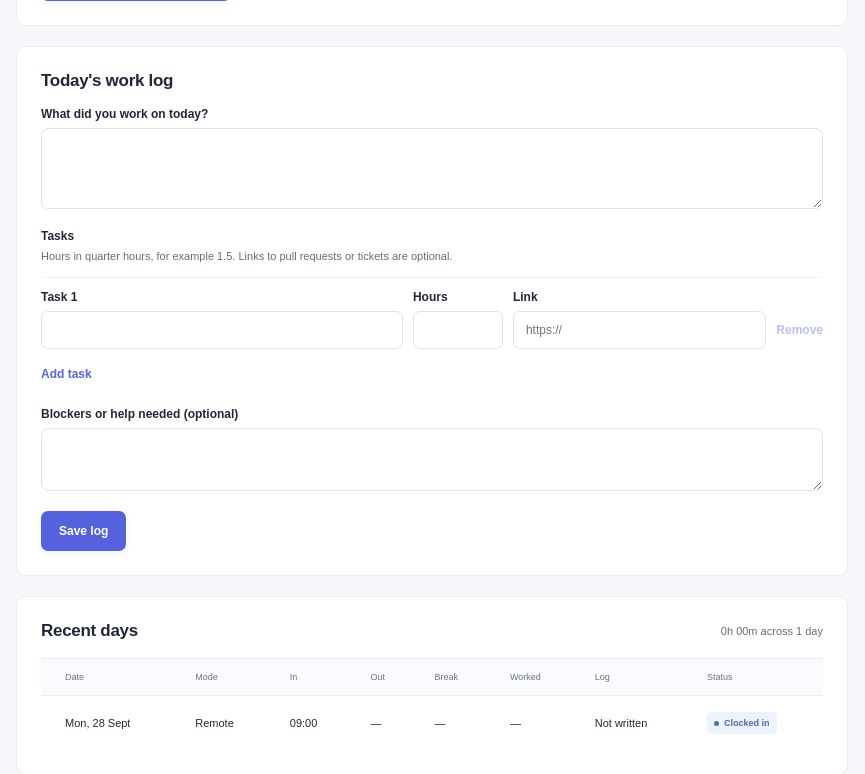
Test: StaffAttendance › adds and removes task rows
The width and height of the screenshot is (865, 774).
(page scrolled)
Click the button "Add task" at (66, 374), box [41,361,92,387]
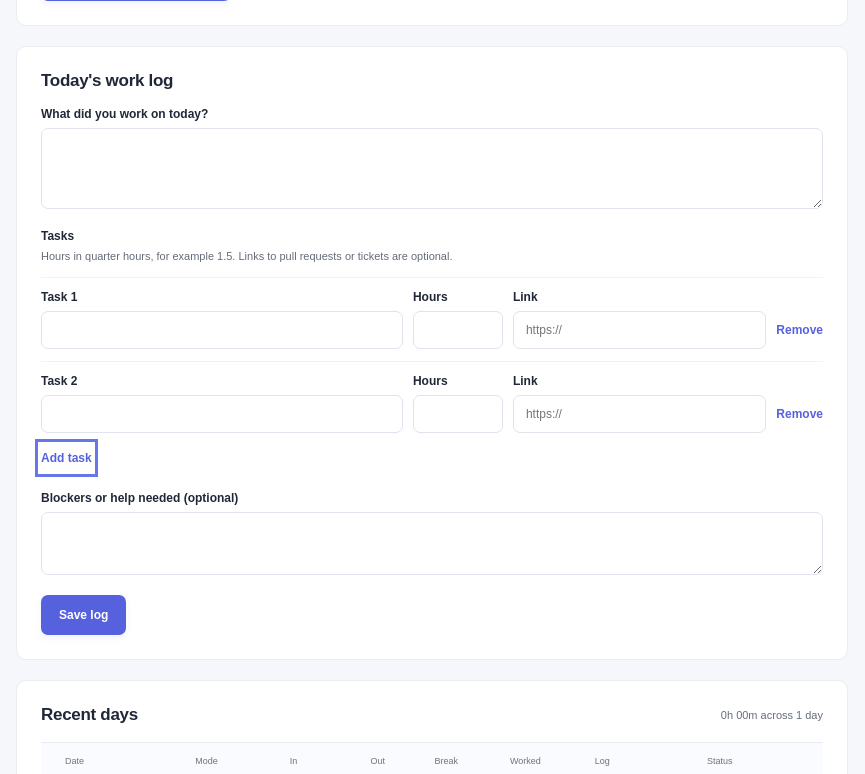
Now the field labelled "Task 2" is shown, box [41,395,403,433]
Click the button with aria-label "Remove task 2" at (800, 417), box [776,401,823,433]
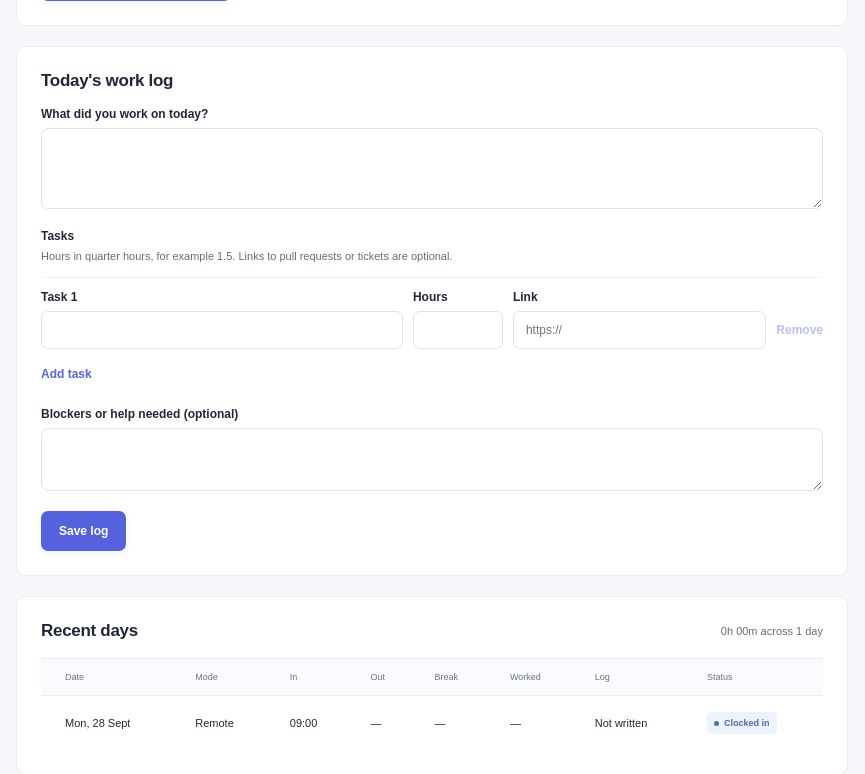
Now the label "Task 2" is gone
